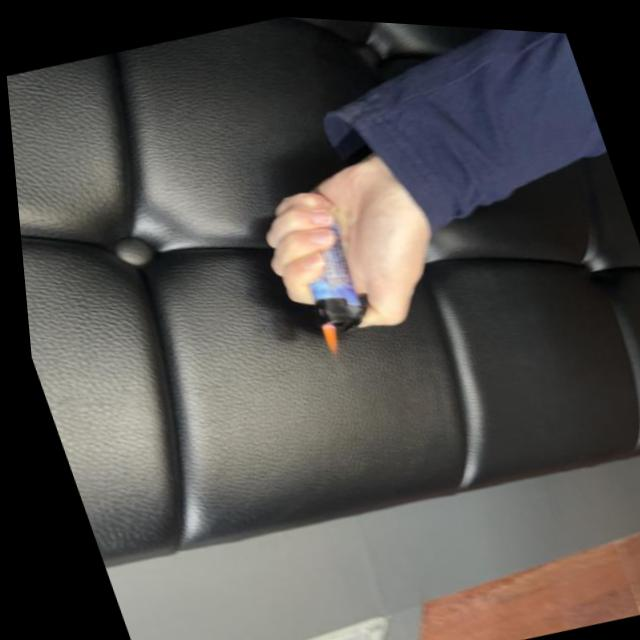Fire: (312, 312, 340, 351)
